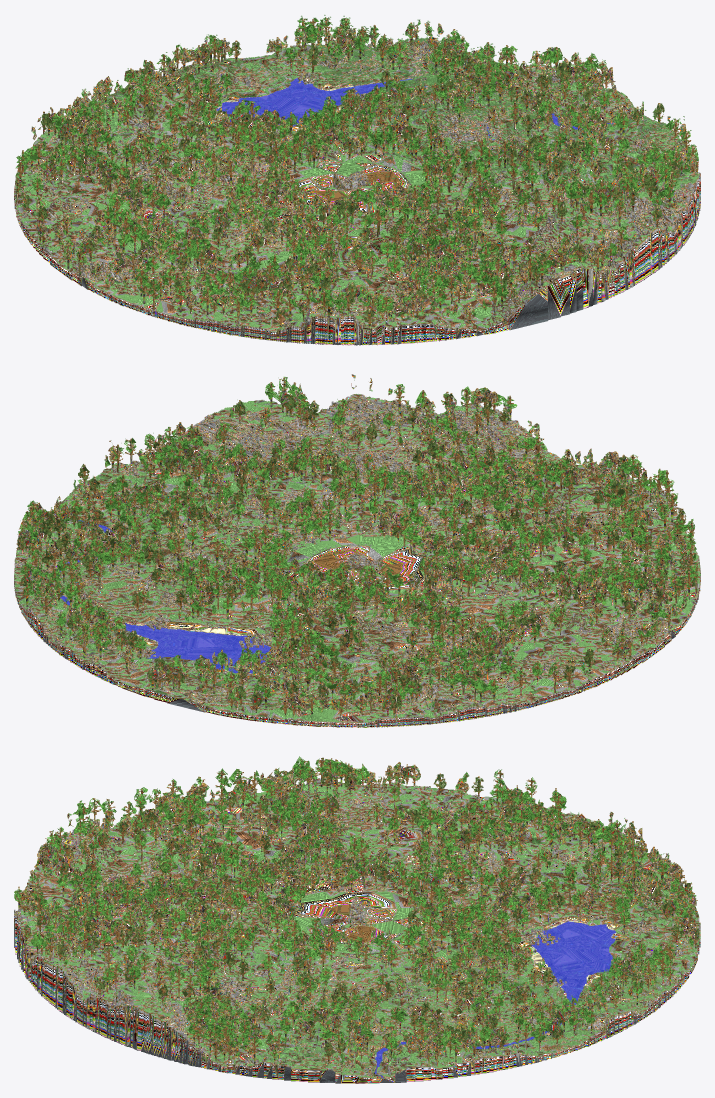
The model's file is hunger-games-arena.glb.
3 renders of one model, top to bottom at view 1: azimuth 30°, elevation 25°; view 2: azimuth 150°, elevation 25°; view 3: azimuth 270°, elevation 25°, orthographic.
Parts seen in each view (by area): view 1: Object_2, Object_3, Object_41; view 2: Object_2, Object_3, Object_41; view 3: Object_2, Object_3, Object_41.
Boxes of the visible parts, x1,y1,x2,y2 form: Object_2: (14,17,700,345); Object_3: (15,17,698,322); Object_41: (19,15,698,319); Object_2: (14,377,700,727); Object_3: (17,374,698,712); Object_41: (15,380,679,721); Object_2: (14,757,700,1083); Object_3: (14,756,699,1065); Object_41: (18,776,700,1078).
Size of the model in its own units: 2.51 by 0.2866 by 2.51.
Materials: 5 (5 with a texture image).
